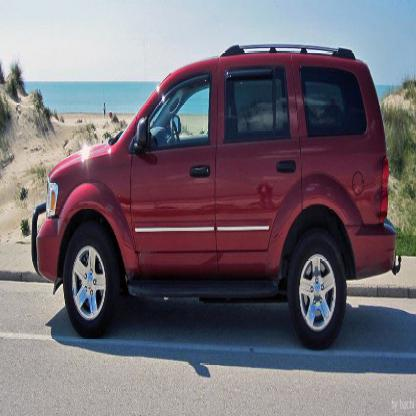Vehicle: (32, 46, 402, 354)
